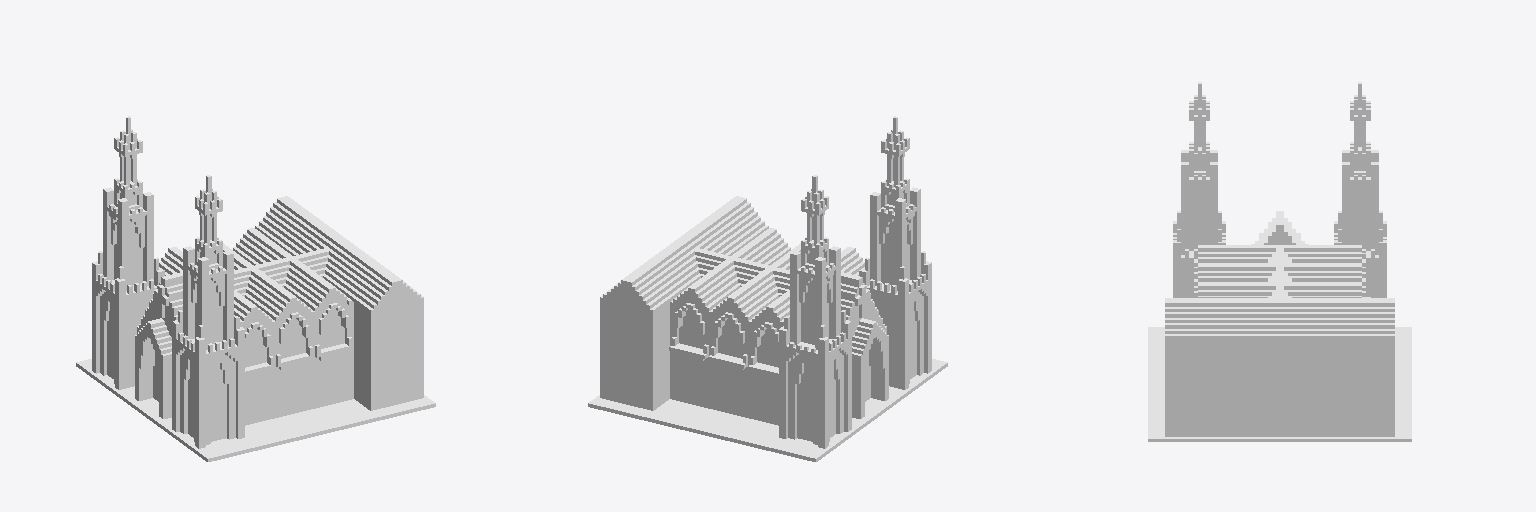
File: katedral.obj
3 views of the same model, side by side, from view 1: azimuth 30°, elevation 25°; view 2: azimuth 150°, elevation 25°; view 3: azimuth 270°, elevation 25° (orthographic).
Parts seen in each view (by area): view 1: object 1; view 2: object 1; view 3: object 1.
Part boxes in pixels (x1,y1,x2,y2): object 1: (76,116,435,461); object 1: (588,116,947,461); object 1: (1148,82,1411,441).
Size of the model in its own units: 6.4 by 7 by 6.4.